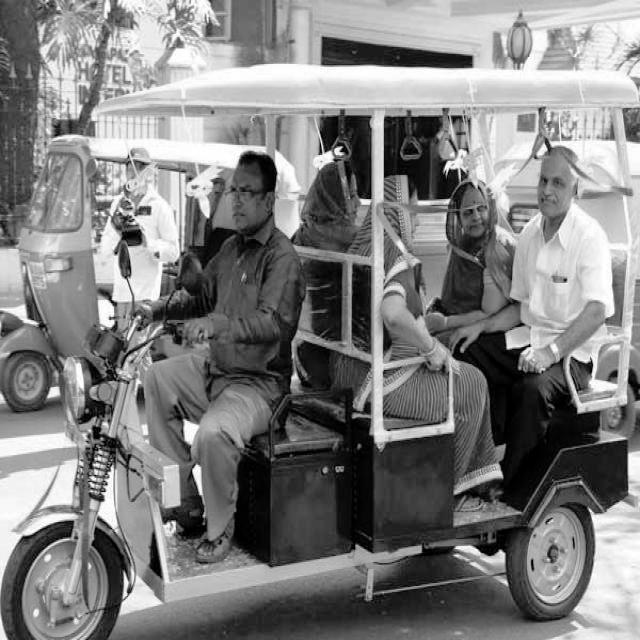Toto: (23, 67, 639, 640)
